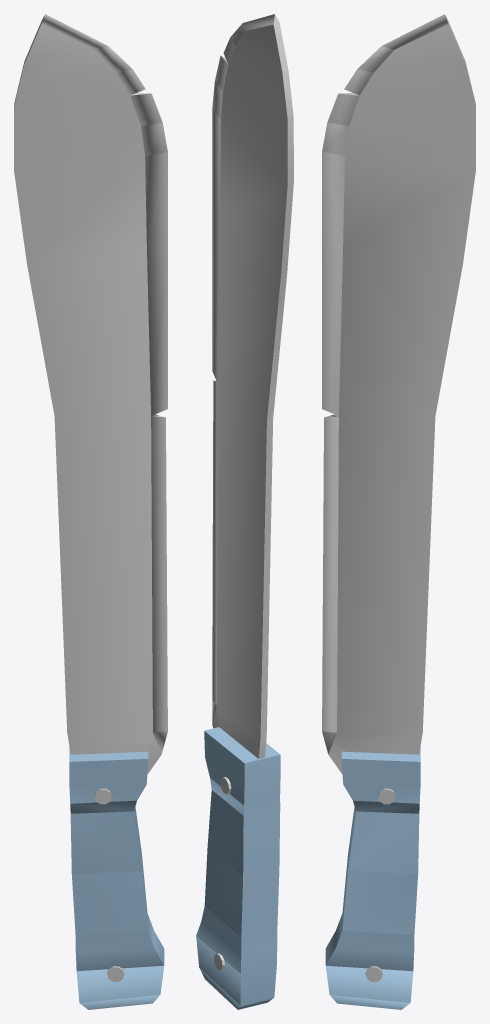
File: Machete.fbx
3 renders of one model, left to right at view 1: azimuth 90°, elevation 25°; view 2: azimuth 210°, elevation 25°; view 3: azimuth 270°, elevation 25°, orthographic.
Parts seen in each view (by area): view 1: machete_mesh; view 2: machete_mesh; view 3: machete_mesh.
Boxes of the visible parts, <box> form: machete_mesh: <box>14,14,167,1009</box>; machete_mesh: <box>196,14,293,1009</box>; machete_mesh: <box>322,14,475,1009</box>.
Size of the model in its own units: 51.98 by 1218 by 172.
